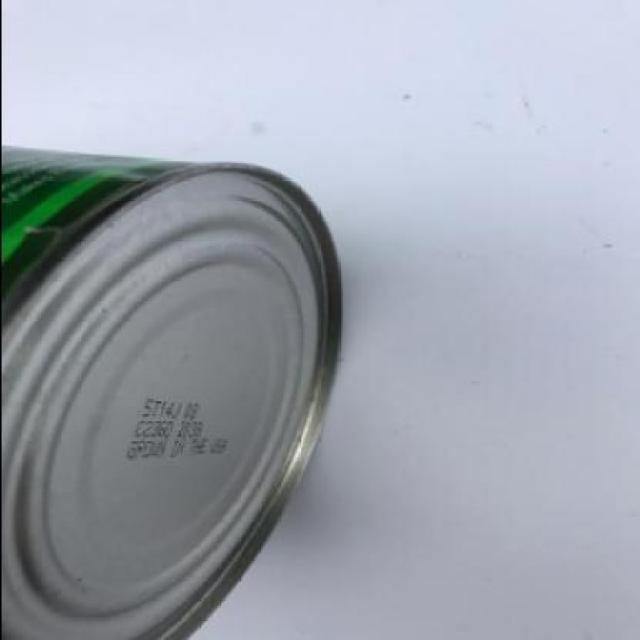METAL: (2, 144, 343, 638)
